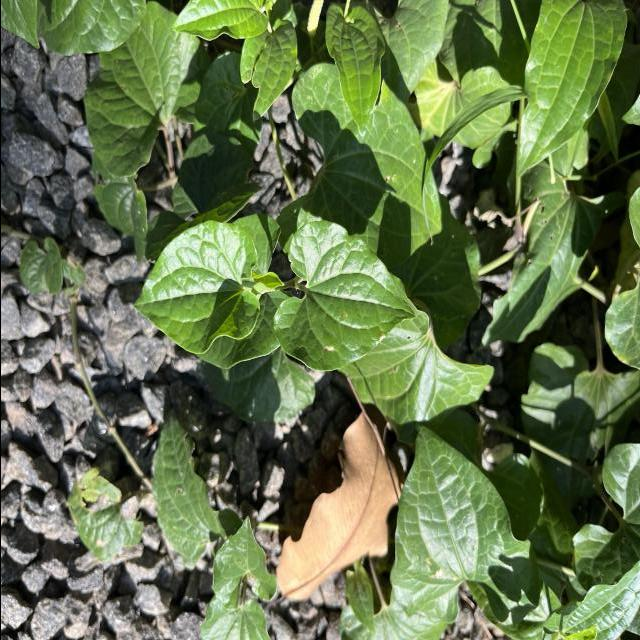Piper longum: (270, 218, 417, 374), (130, 218, 260, 356)
